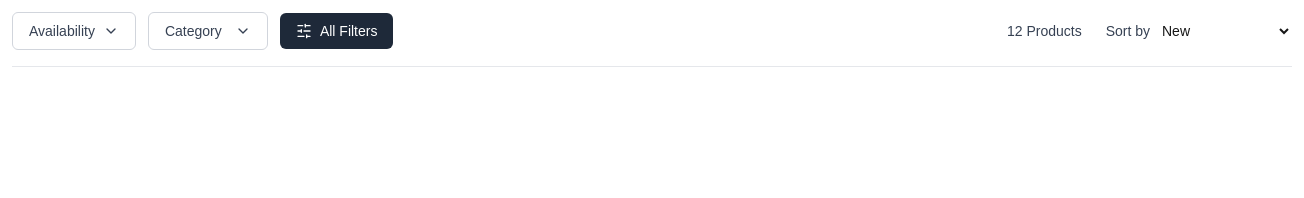
Test: ProductFilter › Dropdown Functionality › should close dropdown when clicking outside
Step 1. Click the button "Availability" → (74, 31), box [12,12,136,50]
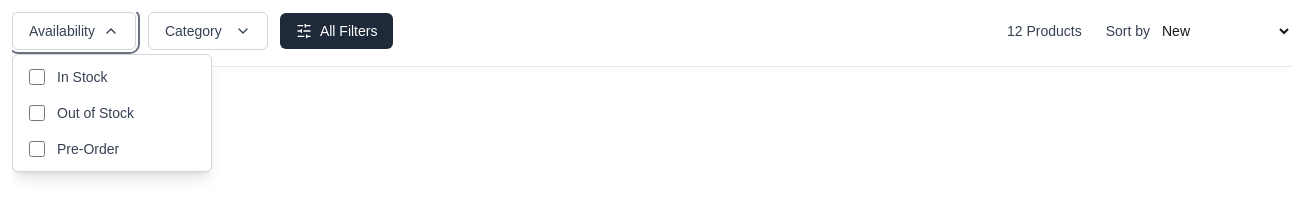
Check: the text "In Stock" is shown, box [29,69,108,85]
Click outside
Step 2. Click the element that starts with "Availability" → (652, 40), box [12,12,1292,67]
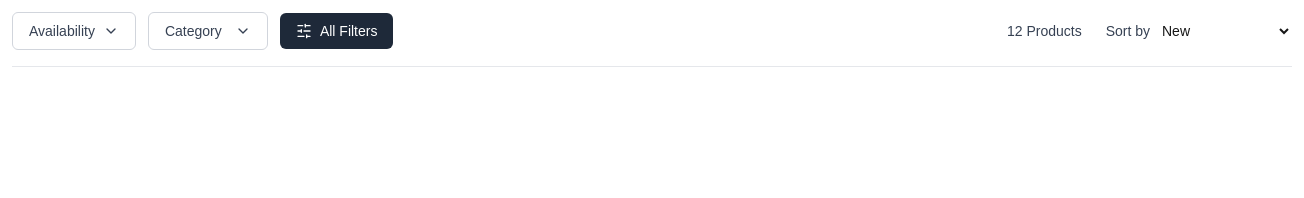
Check: the text "In Stock" is gone
